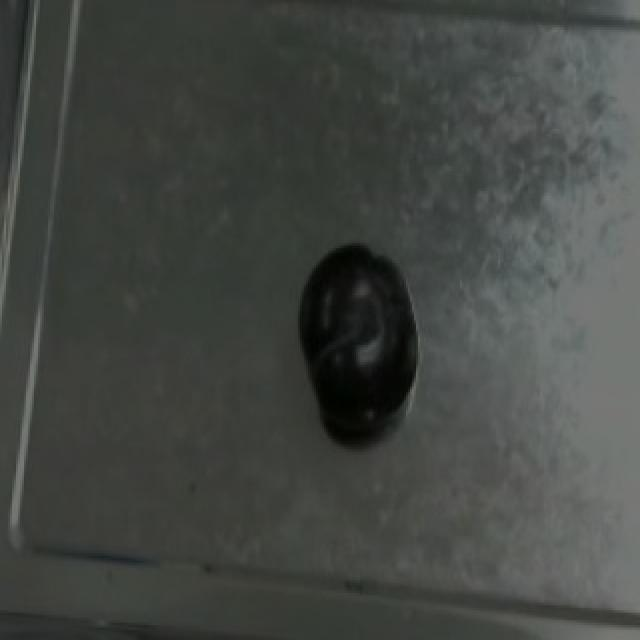Fruit: (296, 241, 422, 439)
